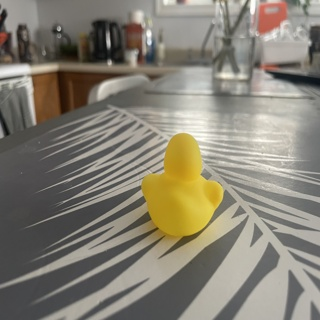duck_regular: (138, 131, 223, 238)
